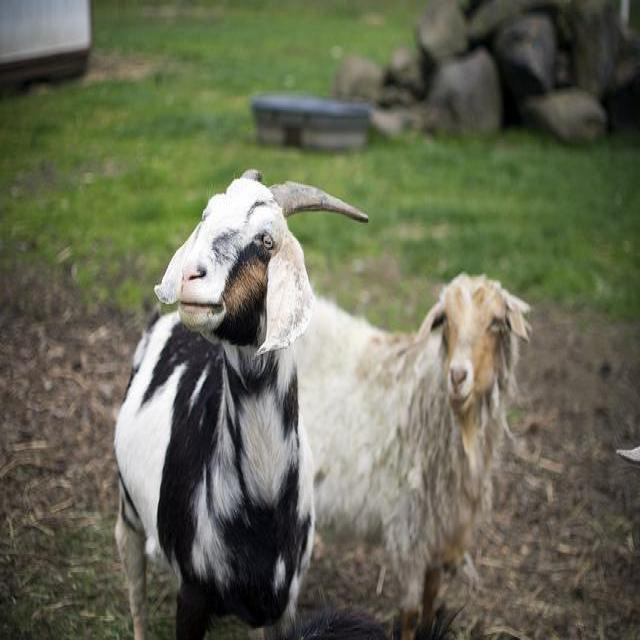Sheep: (113, 168, 372, 638), (290, 273, 534, 634)
